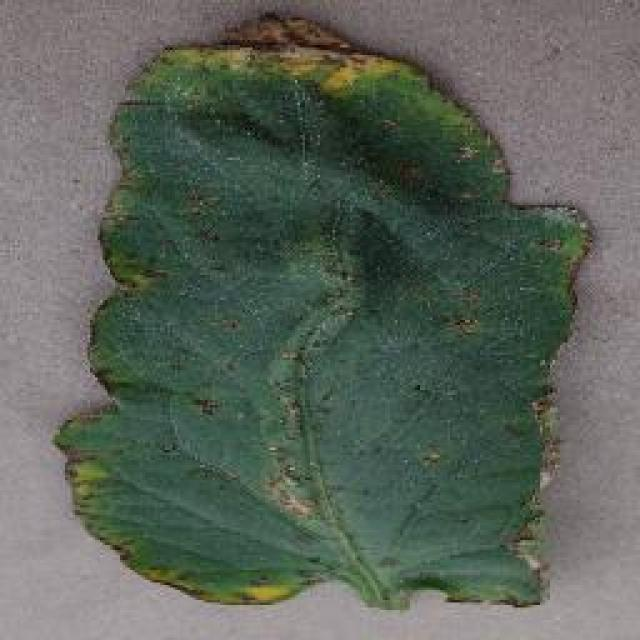Tomato bacterial spot leaf: (48, 8, 602, 615)
